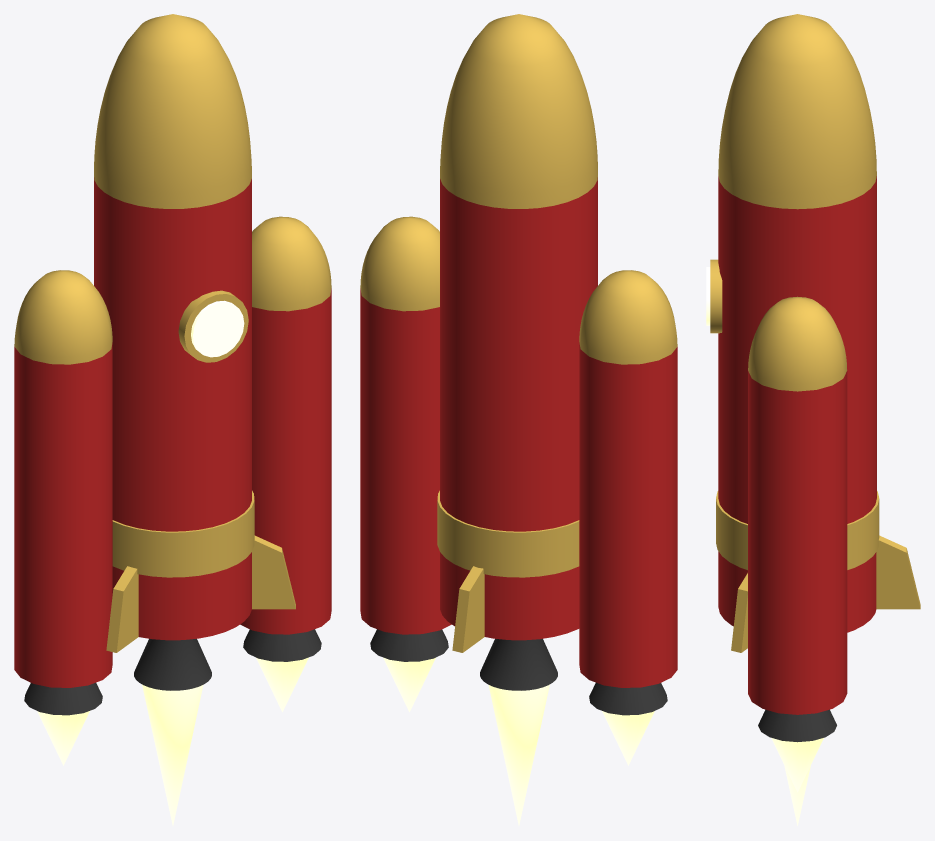
The model's file is Rocket_27_CrimsonTrio.fbx.
3 renders of one model, left to right at view 1: azimuth 30°, elevation 25°; view 2: azimuth 150°, elevation 25°; view 3: azimuth 270°, elevation 25°, orthographic.
Visible parts, largest first — view 1: R27_Body, R27_Booster_2, R27_Nose, R27_Booster_1, R27_BoosterNose_2, R27_Band_1, R27_BoosterNose_1, R27_Flame_1, R27_Nozzle_1, R27_Fin_3, R27_Window_1, R27_Fin_2 (+5 smaller); view 2: R27_Body, R27_Booster_2, R27_Booster_1, R27_Nose, R27_BoosterNose_2, R27_Band_1, R27_BoosterNose_1, R27_Flame_1, R27_Nozzle_1, R27_Fin_1, R27_BoosterNozzle_1, R27_BoosterNozzle_2 (+2 smaller); view 3: R27_Body, R27_Booster_1, R27_Nose, R27_BoosterNose_1, R27_Band_1, R27_Fin_1, R27_BoosterNozzle_1, R27_BoosterFlame_1, R27_Fin_3, R27_WindowFrame_1, R27_Flame_1.
Boxes of the visible parts, left/top/right/bottom form: R27_Body: left=94, top=177, right=251, bottom=640; R27_Booster_2: left=14, top=342, right=112, bottom=687; R27_Nose: left=94, top=14, right=251, bottom=208; R27_Booster_1: left=240, top=288, right=331, bottom=634; R27_BoosterNose_2: left=14, top=270, right=112, bottom=364; R27_Band_1: left=112, top=490, right=254, bottom=577; R27_BoosterNose_1: left=252, top=216, right=331, bottom=311; R27_Flame_1: left=142, top=684, right=203, bottom=825; R27_Nozzle_1: left=134, top=638, right=211, bottom=690; R27_Fin_3: left=252, top=535, right=295, bottom=609; R27_Window_1: left=191, top=300, right=244, bottom=357; R27_Fin_2: left=106, top=566, right=138, bottom=652; R27_Body: left=440, top=177, right=597, bottom=640; R27_Booster_2: left=579, top=342, right=677, bottom=687; R27_Booster_1: left=360, top=288, right=451, bottom=634; R27_Nose: left=440, top=14, right=597, bottom=208; R27_BoosterNose_2: left=579, top=270, right=677, bottom=364; R27_Band_1: left=437, top=490, right=579, bottom=577; R27_BoosterNose_1: left=360, top=216, right=439, bottom=311; R27_Flame_1: left=488, top=684, right=549, bottom=825; R27_Nozzle_1: left=480, top=638, right=557, bottom=690; R27_Fin_1: left=452, top=566, right=484, bottom=652; R27_BoosterNozzle_1: left=370, top=629, right=448, bottom=661; R27_BoosterNozzle_2: left=589, top=682, right=667, bottom=715; R27_Body: left=718, top=176, right=876, bottom=632; R27_Booster_1: left=748, top=371, right=847, bottom=714; R27_Nose: left=718, top=14, right=876, bottom=209; R27_BoosterNose_1: left=748, top=296, right=847, bottom=391; R27_Band_1: left=716, top=491, right=879, bottom=570; R27_Fin_1: left=876, top=535, right=920, bottom=609; R27_BoosterNozzle_1: left=758, top=709, right=836, bottom=742; R27_BoosterFlame_1: left=771, top=737, right=823, bottom=792; R27_Fin_3: left=731, top=573, right=747, bottom=652; R27_WindowFrame_1: left=710, top=259, right=722, bottom=333; R27_Flame_1: left=784, top=765, right=810, bottom=825.
Bounding box in the file's own units: 3.55 × 9.05 × 2.16.
